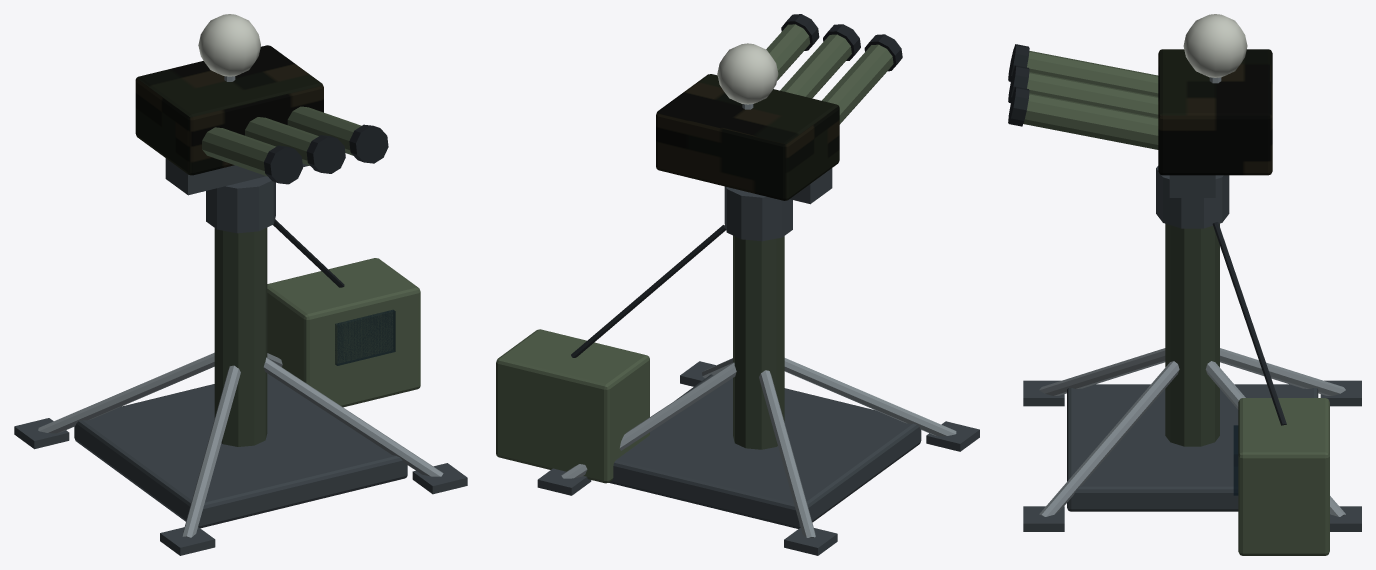
Rendered from sns_cuas_jammer.glb.
The picture shows the model from 3 angles, left to right: view 1: azimuth 30°, elevation 25°; view 2: azimuth 150°, elevation 25°; view 3: azimuth 270°, elevation 25°; orthographic projection. The views are drawn at different scales.
Parts seen in each view (by area): view 1: SNS_CUAS_JAMMER; view 2: SNS_CUAS_JAMMER; view 3: SNS_CUAS_JAMMER.
Part boxes in pixels (<box>): SNS_CUAS_JAMMER: <box>14,14,467,555</box>; SNS_CUAS_JAMMER: <box>496,14,979,555</box>; SNS_CUAS_JAMMER: <box>1008,14,1361,555</box>.
Size of the model in its own units: 1.79 by 2.15 by 1.55.
Materials: 8 (1 with a texture image).
